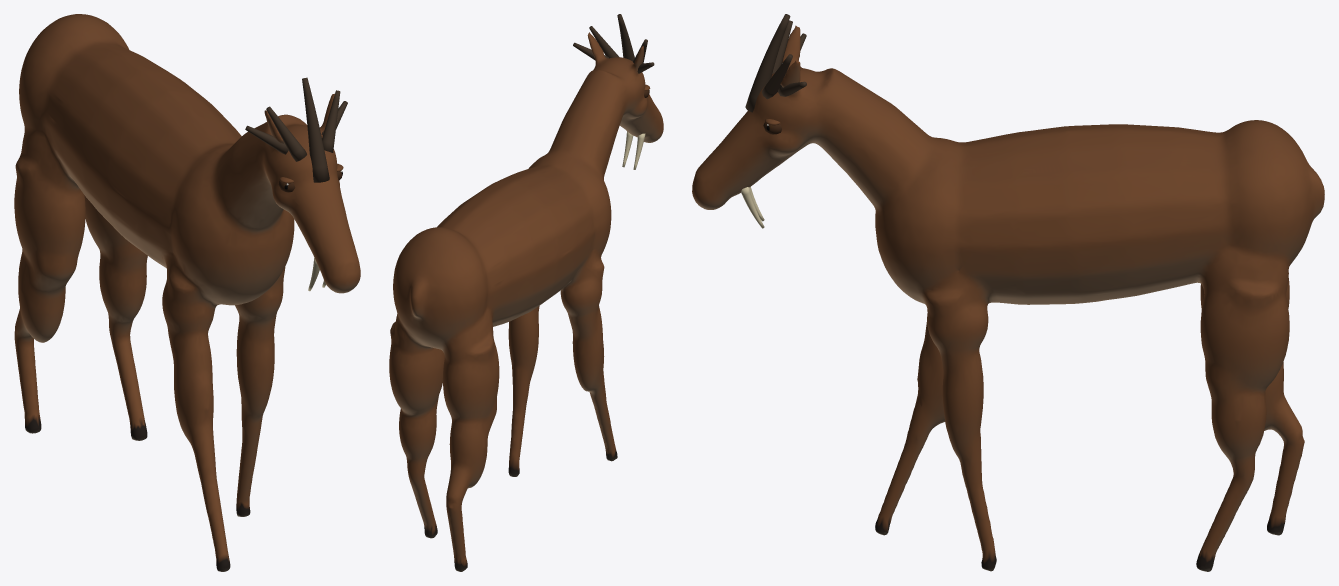
Rendered from HoplitomeryxMatthei.fbx.
3 renders of one model, left to right at view 1: azimuth 30°, elevation 25°; view 2: azimuth 150°, elevation 25°; view 3: azimuth 270°, elevation 25°, orthographic. The views are drawn at different scales.
Visible parts, largest first — view 1: HoplitomeryxMatthei; view 2: HoplitomeryxMatthei; view 3: HoplitomeryxMatthei.
Boxes of the visible parts, bbox=[...] form: HoplitomeryxMatthei: bbox=[14, 14, 360, 571]; HoplitomeryxMatthei: bbox=[389, 14, 663, 571]; HoplitomeryxMatthei: bbox=[692, 14, 1324, 571].
Size of the model in its own units: 0.3009 by 1.2 by 1.28.
